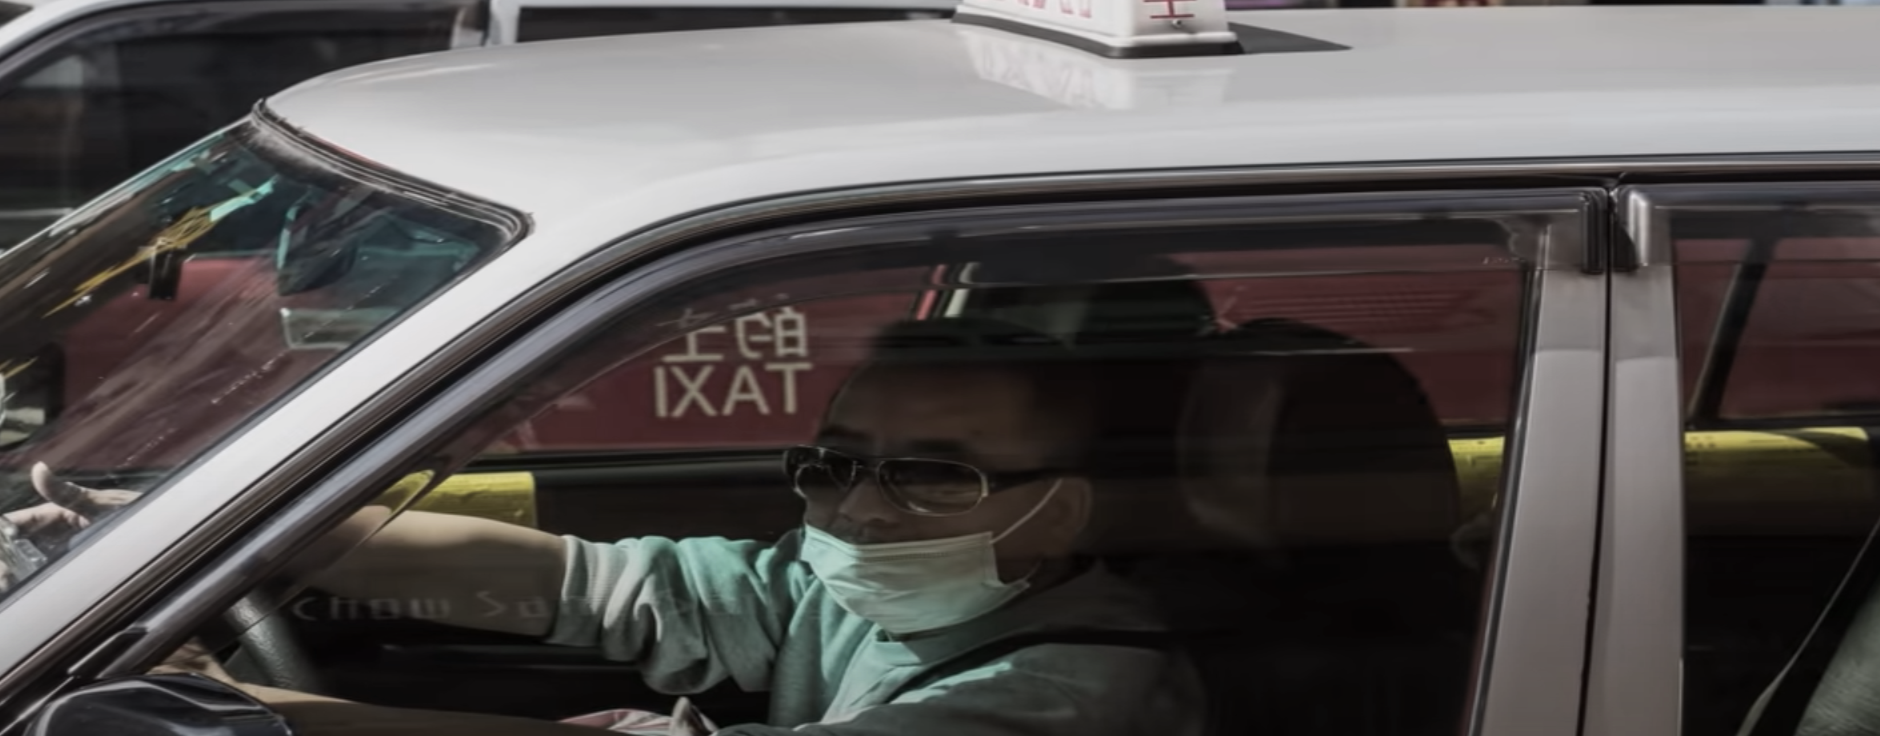mask_weared_incorrect: (789, 322, 1129, 639)
